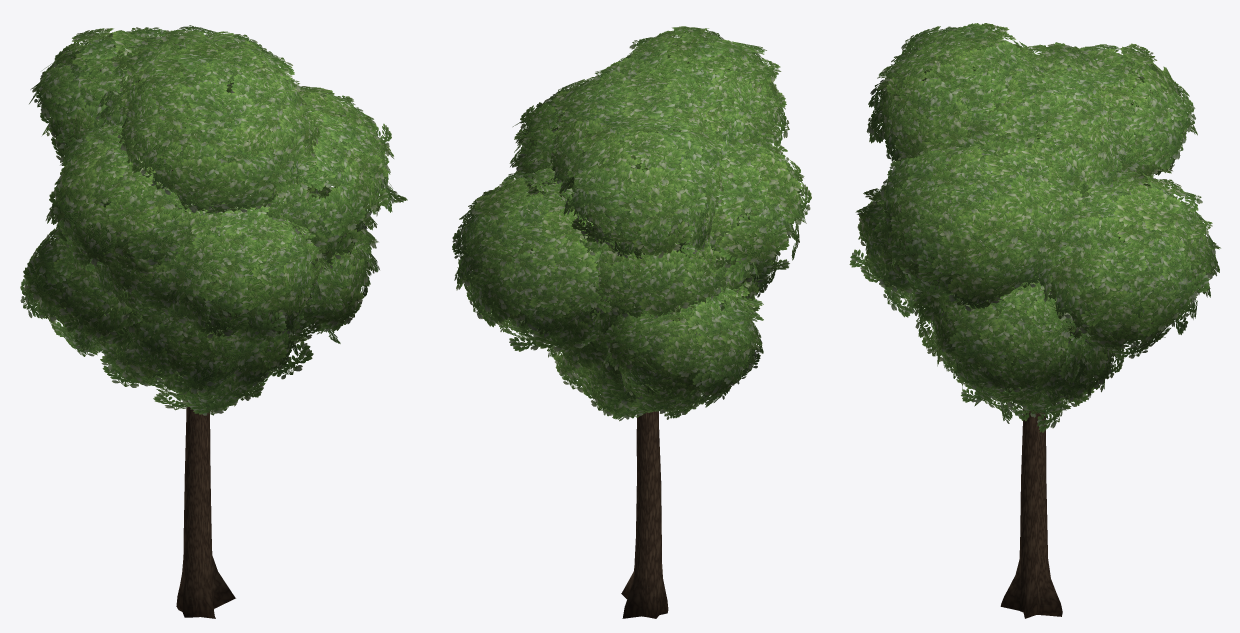
The model's file is sundari_b.glb.
3 renders of one model, left to right at view 1: azimuth 30°, elevation 25°; view 2: azimuth 150°, elevation 25°; view 3: azimuth 270°, elevation 25°, orthographic. The views are drawn at different scales.
Visible parts, largest first — view 1: leaves, wood; view 2: leaves, wood; view 3: leaves, wood.
Part boxes in pixels (x1,y1,x2,y2): leaves: (20,25,407,415); wood: (172,170,235,618); leaves: (452,26,811,421); wood: (621,160,668,618); leaves: (849,23,1220,432); wood: (1000,149,1086,618).
Size of the model in its own units: 7.98 by 14.28 by 8.49.
Materials: 2 (2 with a texture image).
